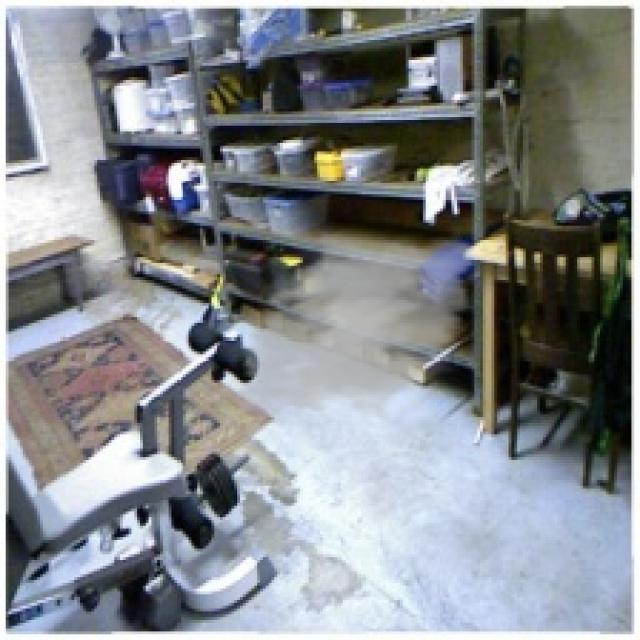Smoke: (225, 222, 486, 438)
